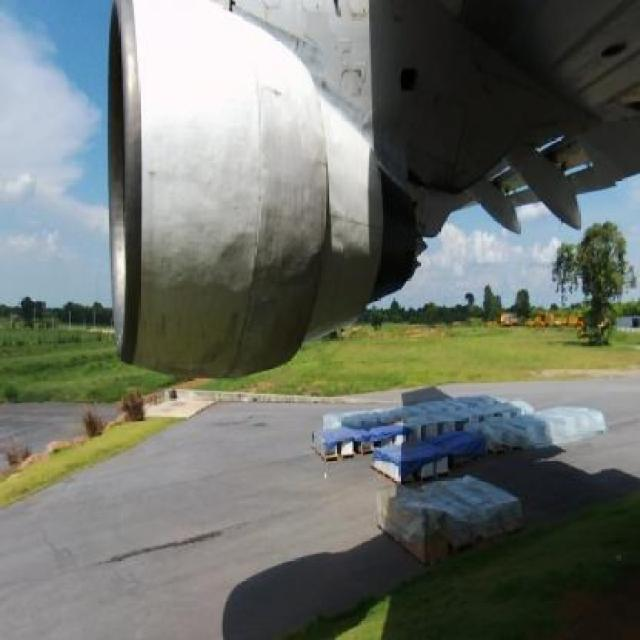Scartch: (262, 91, 322, 309), (149, 295, 294, 373)
